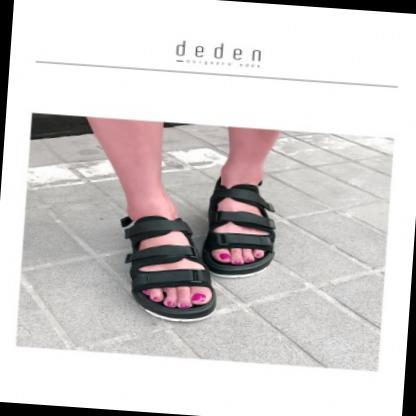no_safety-shoe: (89, 215, 219, 334), (202, 187, 300, 285)
